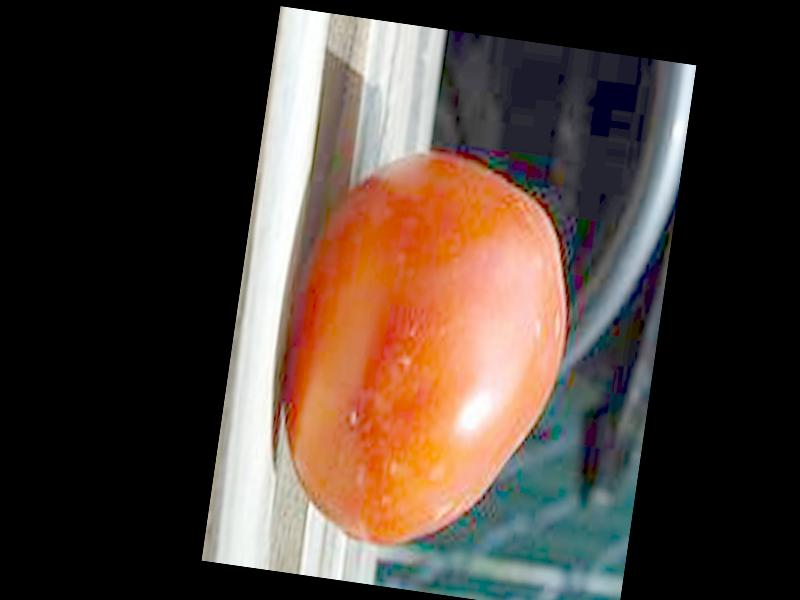Tomato: (266, 138, 588, 568)
